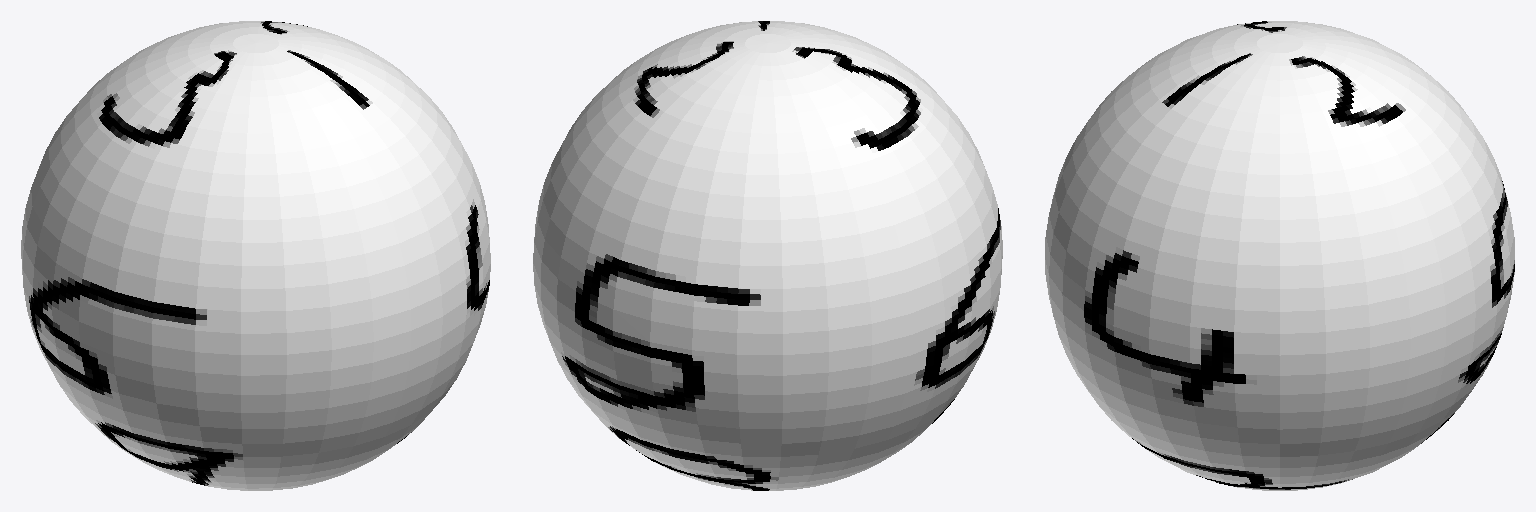
3 views of the same model, side by side, from view 1: azimuth 30°, elevation 25°; view 2: azimuth 150°, elevation 25°; view 3: azimuth 270°, elevation 25° (orthographic).
Parts seen in each view (by area): view 1: Sphere; view 2: Sphere; view 3: Sphere.
Boxes of the visible parts, box(x1,y1,x2,y2) form: Sphere: box(21, 21, 490, 490); Sphere: box(533, 21, 1002, 490); Sphere: box(1045, 21, 1514, 490).
Size of the model in its own units: 2 by 1.99 by 2.
Materials: 1 (1 with a texture image).